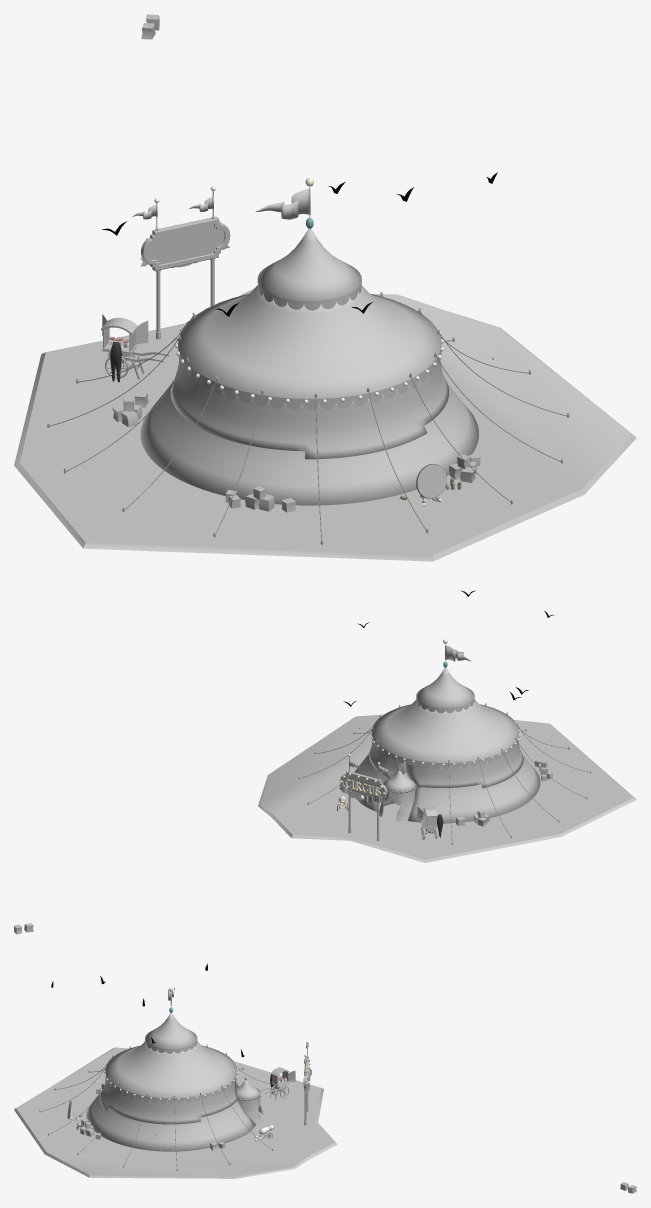
Rendered from tent doğru çalış nolur.fbx.
3 views of the same model, one above another, from view 1: azimuth 30°, elevation 25°; view 2: azimuth 150°, elevation 25°; view 3: azimuth 270°, elevation 25° (orthographic). The views are drawn at different scales.
Parts seen in each view (by area): view 1: polySurface342, polySurface2, polySurface1, pCylinder2, pCylinder134, pCylinder133, pCylinder52, polySurface3, pCube1, polySurface355; view 2: polySurface342, polySurface2, polySurface1, pCylinder2, pCylinder208; view 3: polySurface342, polySurface2, polySurface1, pCylinder2, pCylinder52, polySurface3, pCylinder208.
Boxes of the visible parts, left/top/right/bottom form: polySurface342: left=14, top=288, right=636, bottom=561; polySurface2: left=140, top=360, right=478, bottom=505; polySurface1: left=178, top=285, right=441, bottom=398; pCylinder2: left=257, top=228, right=361, bottom=301; pCylinder134: left=148, top=224, right=224, bottom=264; pCylinder133: left=141, top=216, right=230, bottom=270; pCylinder52: left=179, top=352, right=441, bottom=410; polySurface3: left=178, top=343, right=441, bottom=403; pCube1: left=255, top=189, right=310, bottom=219; polySurface355: left=417, top=464, right=446, bottom=498; polySurface342: left=258, top=714, right=636, bottom=862; polySurface2: left=354, top=742, right=540, bottom=823; polySurface1: left=371, top=699, right=519, bottom=762; pCylinder2: left=416, top=667, right=474, bottom=708; pCylinder208: left=379, top=788, right=415, bottom=821; polySurface342: left=14, top=1047, right=337, bottom=1178; polySurface2: left=86, top=1079, right=255, bottom=1151; polySurface1: left=105, top=1041, right=237, bottom=1098; pCylinder2: left=145, top=1013, right=197, bottom=1049; pCylinder52: left=105, top=1077, right=236, bottom=1103; polySurface3: left=105, top=1073, right=236, bottom=1100; pCylinder208: left=238, top=1095, right=262, bottom=1124.
Bounding box in the file's own units: 4178 × 1964 × 7569.
